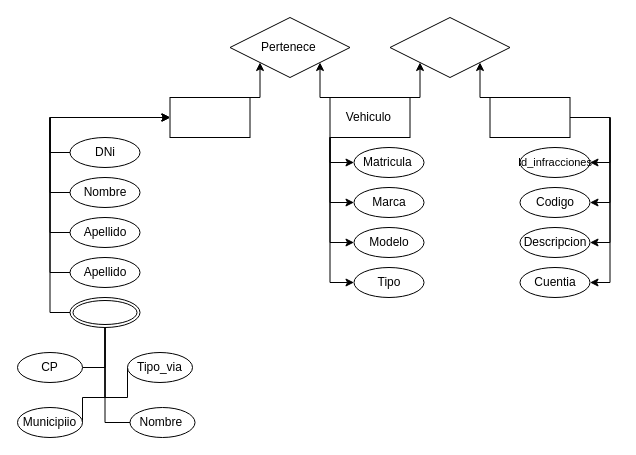
The diagram is 636 pixels wide and 455 high, and some of its shapes have lost their labels. The shapes that lost their labels are listed below. From the top down, each one's centre as x and y in pixels, then its label:
At point (449, 47): "Tiene".
At point (209, 117): "Propietarios".
At point (529, 117): "Infrcciones".
At point (104, 312): "Direccion".
